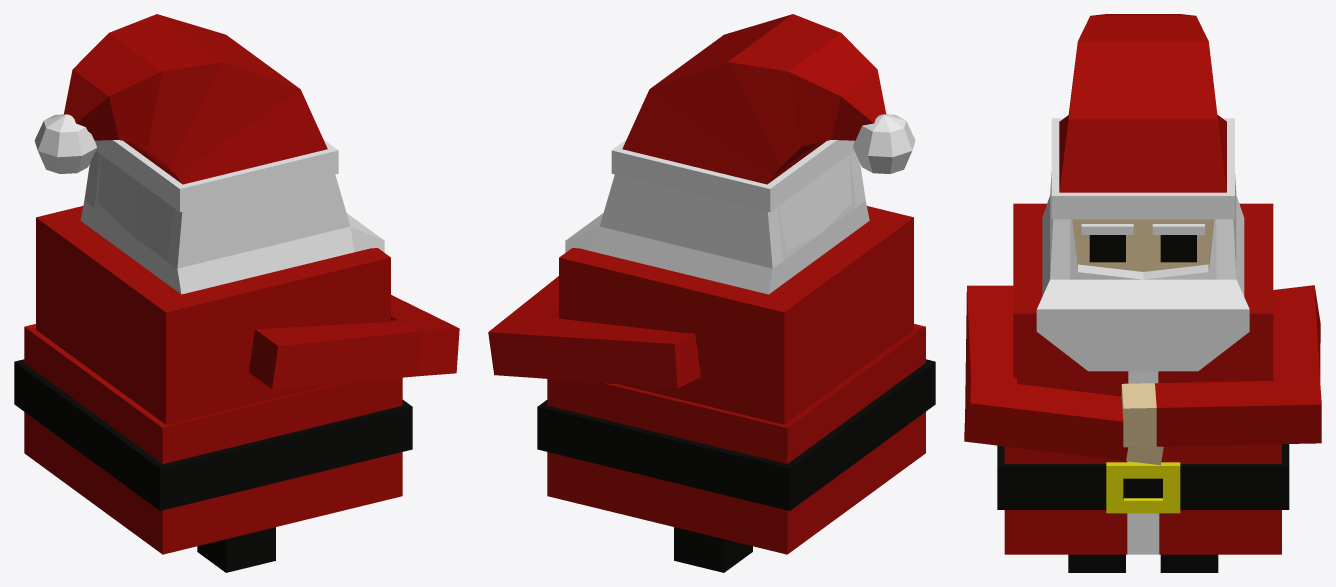
File: PAPANOEL.fbx
3 views of the same model, side by side, from view 1: azimuth 30°, elevation 25°; view 2: azimuth 150°, elevation 25°; view 3: azimuth 270°, elevation 25° (orthographic).
Parts seen in each view (by area): view 1: Cube, Cube.005, Cube.007, Cube.008, Cube.003, Sphere, Cube.001; view 2: Cube, Cube.005, Cube.007, Cube.008, Cube.004, Sphere, Cube.001; view 3: Cube.005, Cube, Cube.007, Cube.004, Cube.003, Cube.008, Cube.002, Cube.006, Cube.001.
Part boxes in pixels (box(x1,y1,x2,y2)): Cube: box(24, 206, 402, 554); Cube.005: box(63, 14, 338, 212); Cube.007: box(80, 151, 384, 294); Cube.008: box(14, 359, 412, 510); Cube.003: box(249, 295, 459, 389); Sphere: box(34, 114, 96, 173); Cube.001: box(197, 527, 275, 572); Cube: box(547, 206, 925, 554); Cube.005: box(611, 14, 886, 212); Cube.007: box(565, 151, 869, 294); Cube.008: box(537, 359, 935, 510); Cube.004: box(488, 276, 700, 388); Sphere: box(853, 114, 915, 173); Cube.001: box(674, 527, 752, 572); Cube.005: box(1051, 14, 1234, 219); Cube: box(1004, 203, 1281, 554); Cube.007: box(1036, 172, 1249, 371); Cube.004: box(1121, 285, 1321, 447); Cube.003: box(964, 285, 1163, 465); Cube.008: box(997, 444, 1289, 513); Cube.002: box(1072, 219, 1214, 271); Cube.006: box(1081, 224, 1204, 262); Cube.001: box(1068, 554, 1218, 572).
Bounding box in the file's own units: 252 × 358 × 228.
